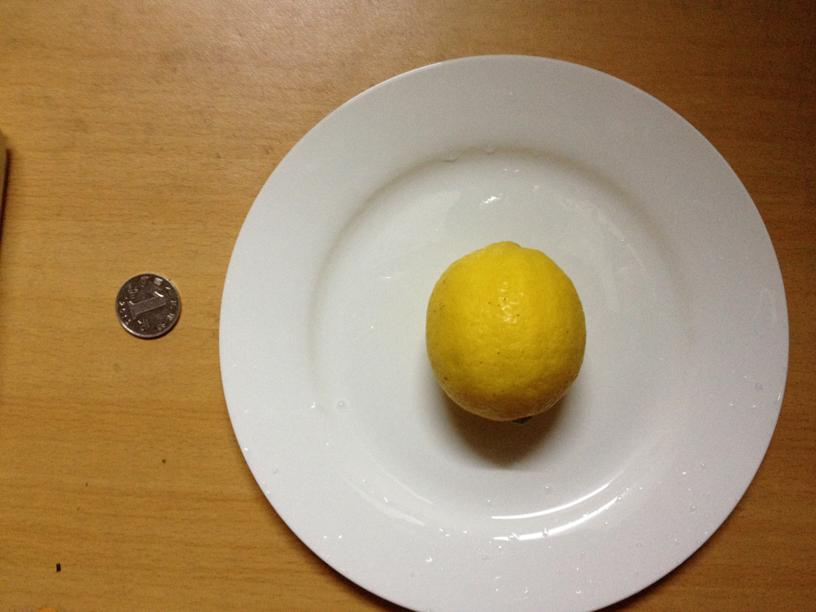coin: (112, 271, 182, 340)
lemon: (427, 239, 588, 422)
